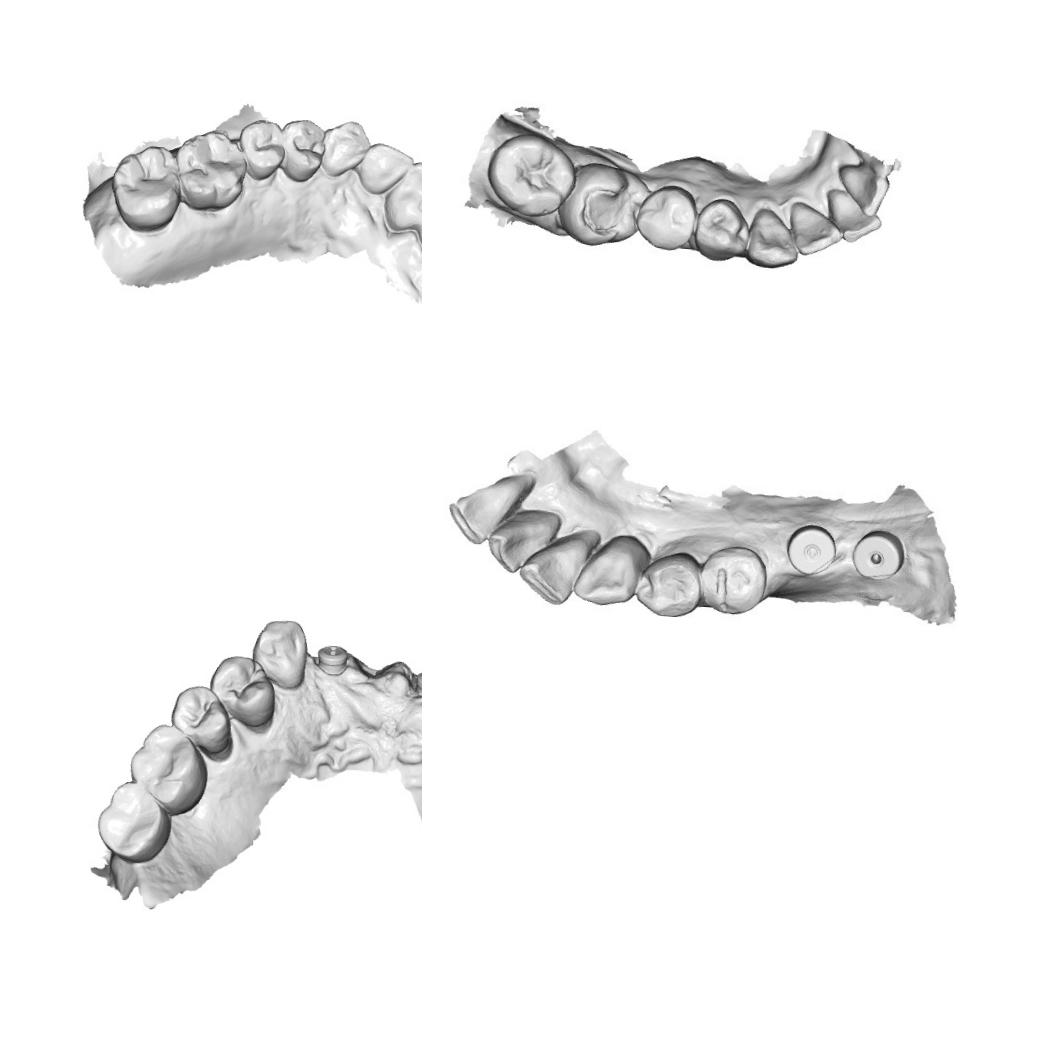canine: (570, 528, 648, 616), (248, 616, 311, 689), (316, 116, 372, 180), (747, 202, 798, 265)
implant: (852, 524, 907, 584), (784, 522, 839, 582)
implant_minus: (313, 643, 351, 677), (413, 663, 422, 700)
incisor: (520, 516, 600, 600), (446, 473, 528, 543), (488, 504, 560, 580), (841, 159, 903, 223), (355, 140, 416, 196), (380, 158, 422, 237), (790, 199, 844, 258), (828, 186, 880, 241)
molar: (124, 720, 211, 820), (487, 124, 576, 213), (92, 776, 174, 867), (106, 140, 184, 232), (566, 162, 646, 248), (172, 127, 250, 214)
premolar: (203, 652, 280, 731), (161, 680, 237, 758), (696, 542, 769, 614), (633, 180, 699, 248), (638, 550, 700, 619), (689, 198, 752, 262), (235, 116, 289, 184), (278, 116, 327, 184)
